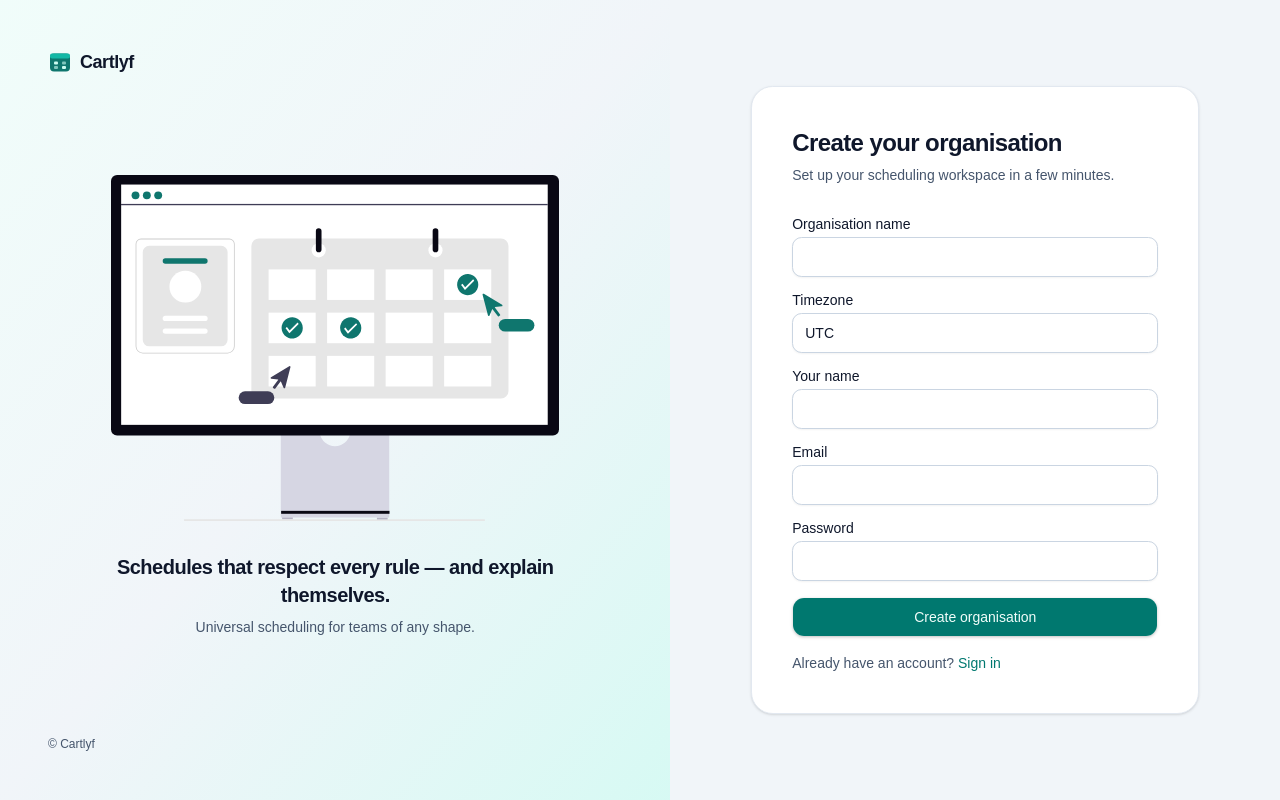
Test: SignupPage › always ends at check-your-email
The width and height of the screenshot is (1280, 800).
Type "ISBAT" into the field labelled "Organisation name" at (975, 257), box [792,237,1158,277]
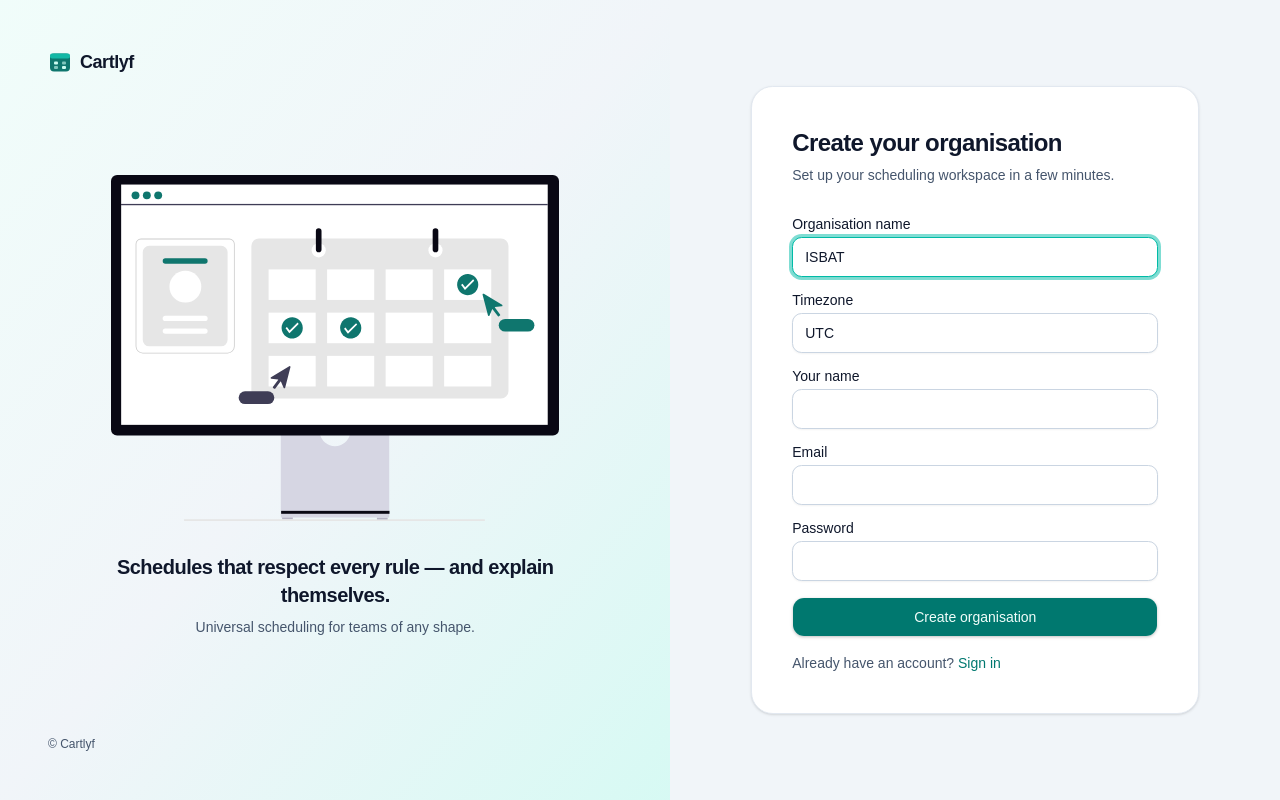
Type "Ada" into the field labelled "Your name" at (975, 409), box [792,389,1158,429]
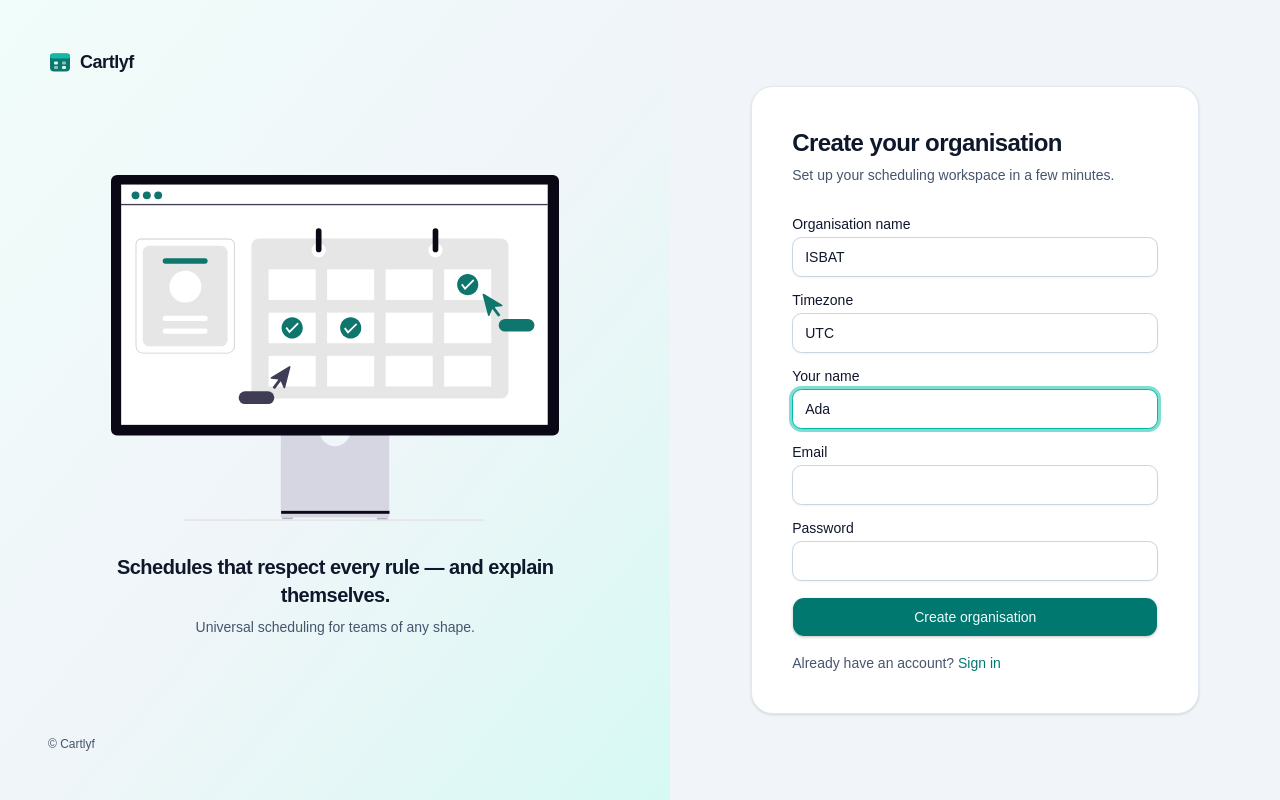
Type "ada@example.com" into the field labelled "Email" at (975, 485), box [792,465,1158,505]
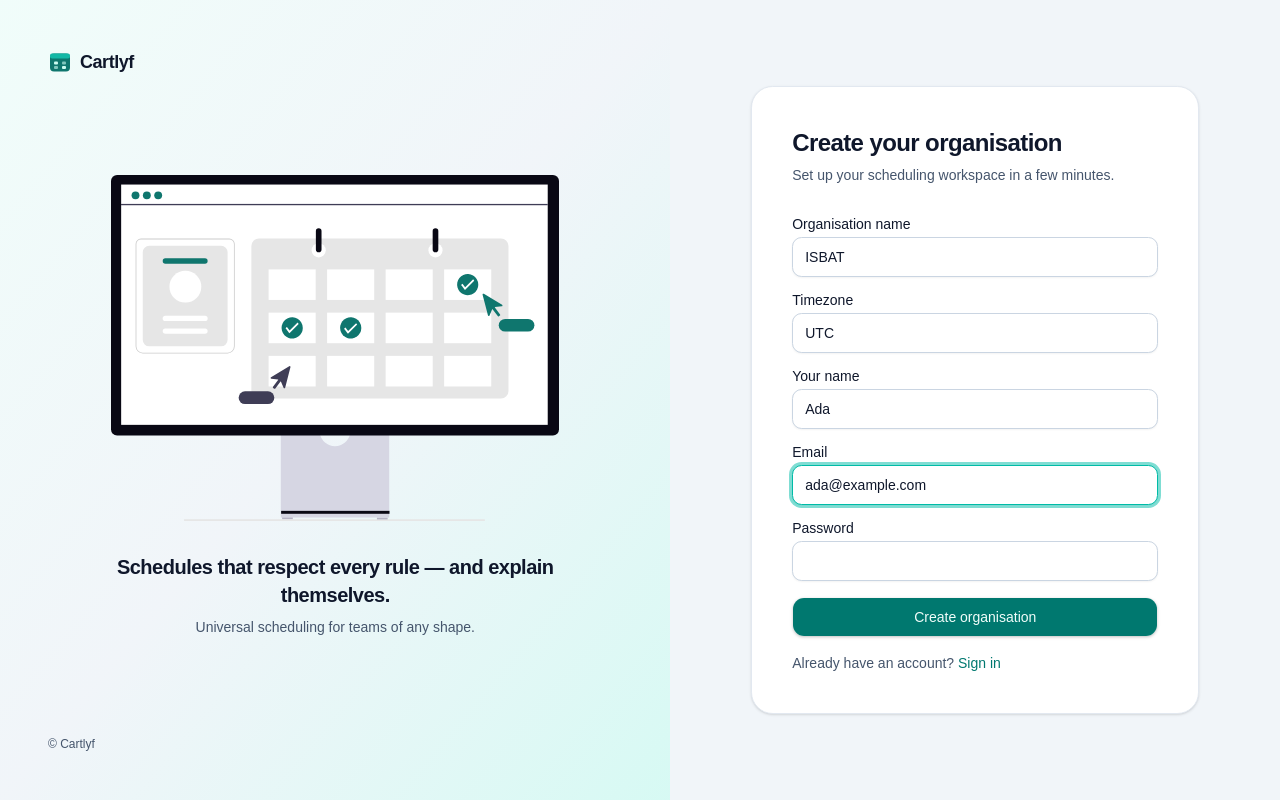
Type "correct horse battery" into the password field labelled "Password" at (975, 561), box [792,541,1158,581]
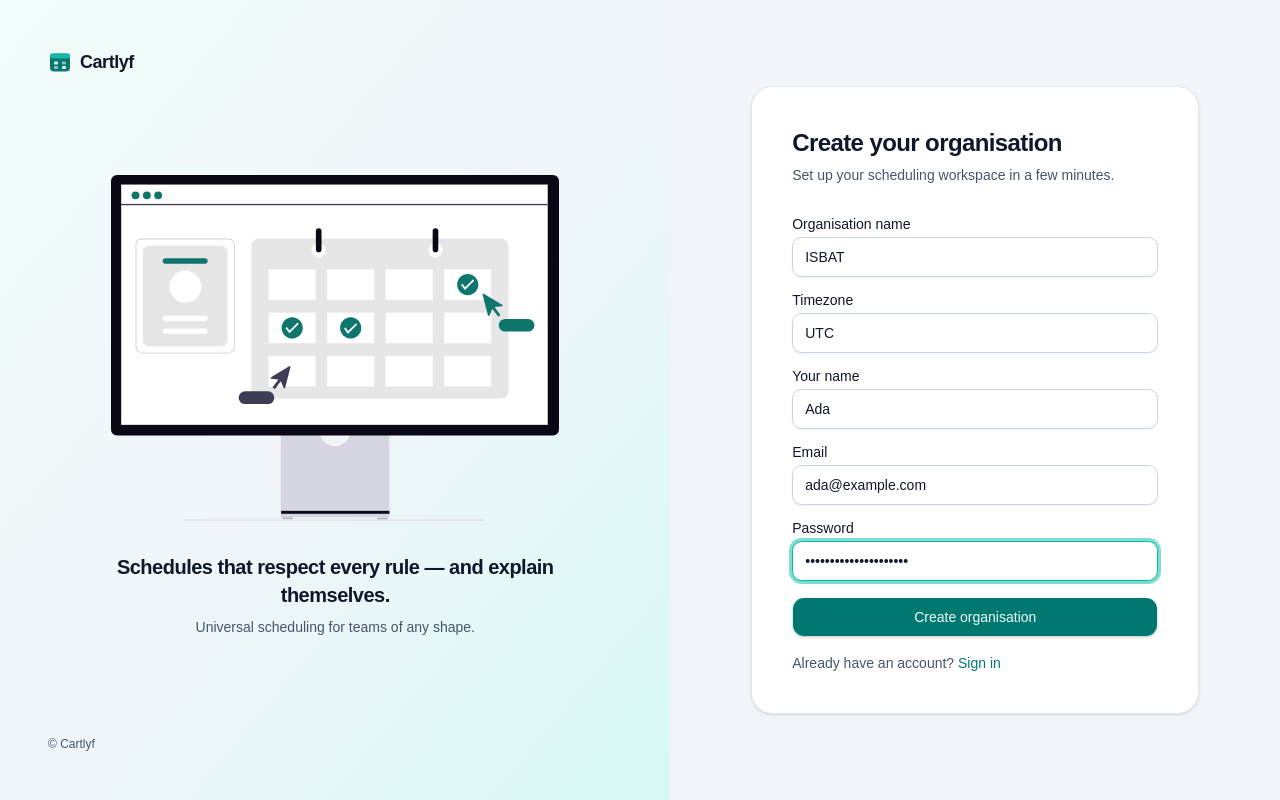
Click the button "Create organisation" at (975, 617), box [792,597,1158,637]
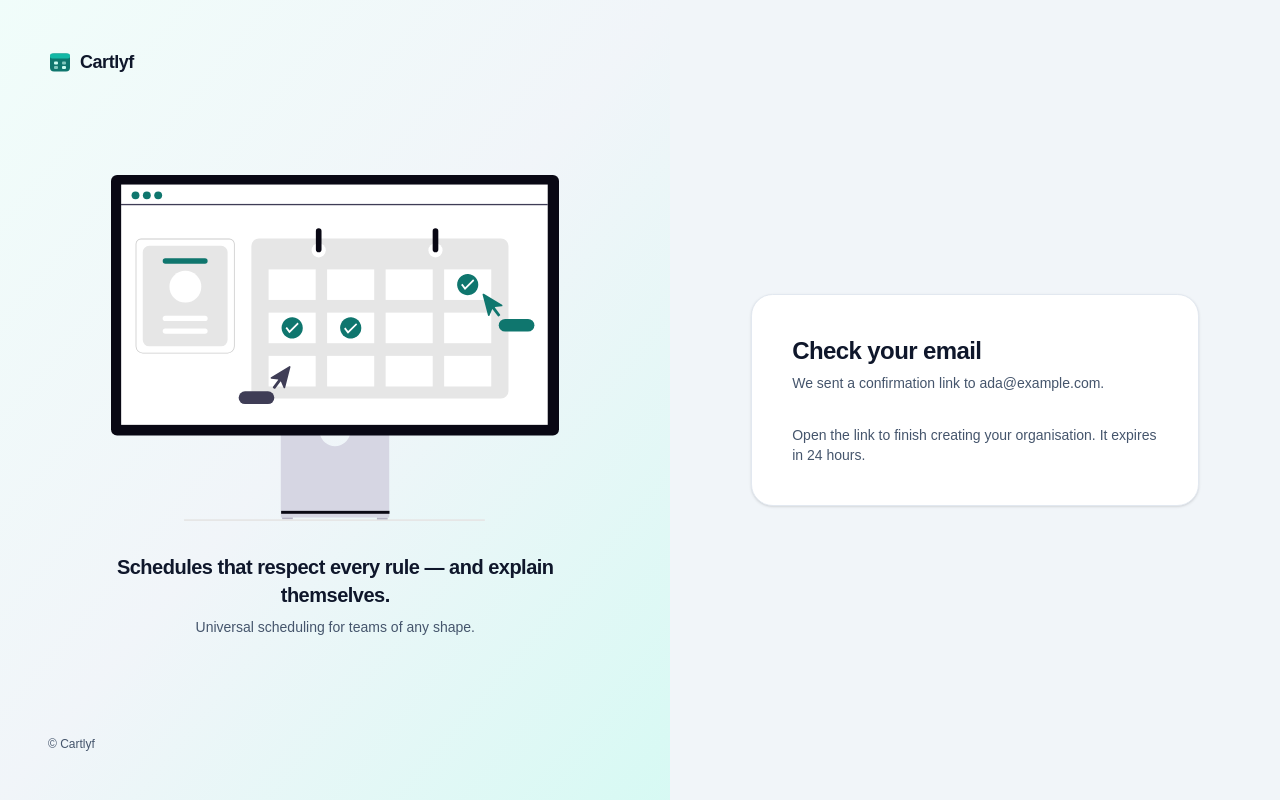
Now the text "We sent a confirmation link to ada@example.com." is shown, box [792,373,1158,393]
